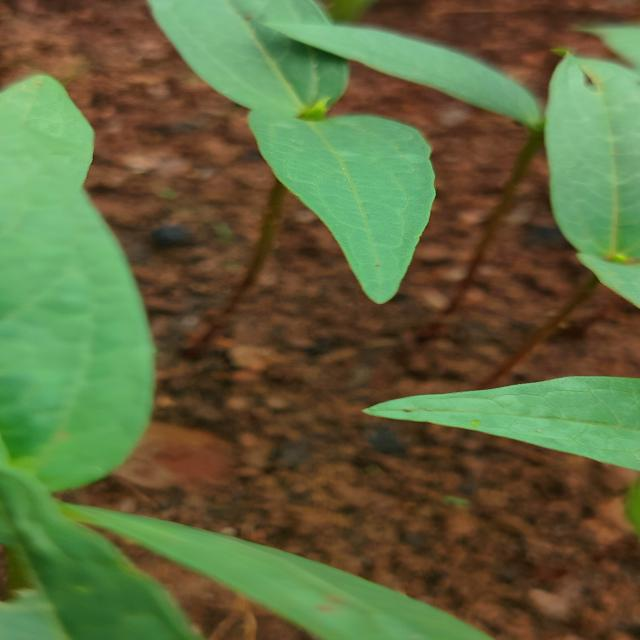Black gram_healthy: (250, 106, 436, 296), (250, 24, 547, 119)
